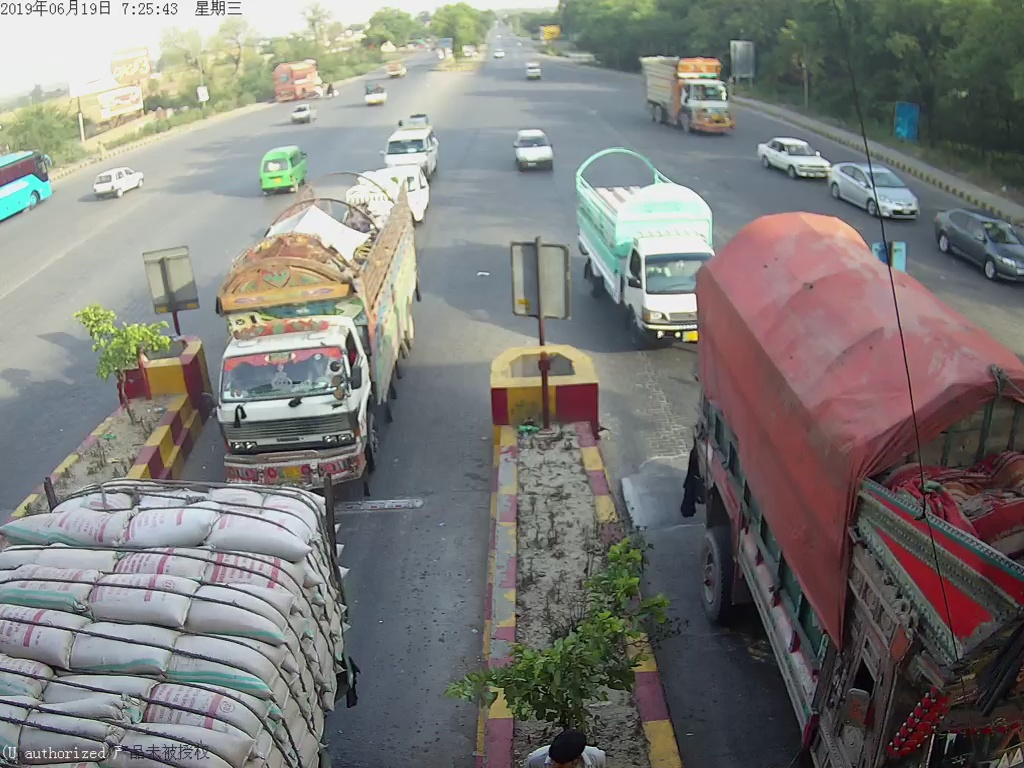Cat-2: (572, 138, 693, 334)
Cat-4: (700, 228, 1024, 763), (202, 191, 419, 483)
